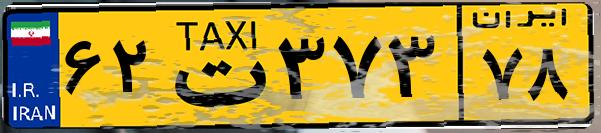2: (110, 28, 158, 98)
3: (270, 28, 330, 110), (385, 28, 445, 110)
6: (57, 26, 110, 100)
7: (330, 28, 385, 110), (475, 38, 525, 113)
8: (525, 38, 570, 115)
ت: (158, 12, 270, 120)
